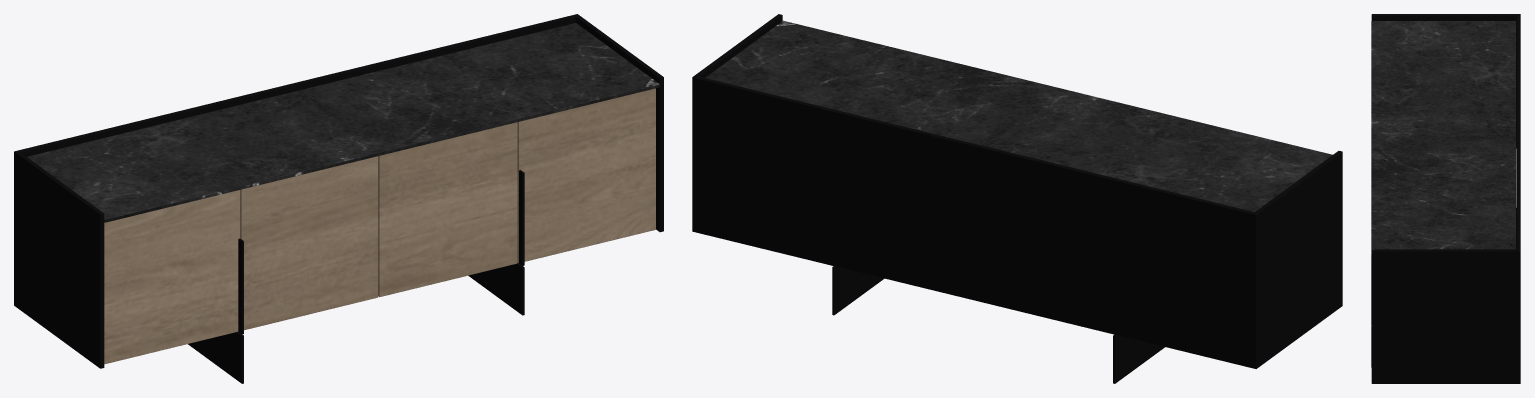
The model's file is black-and-wood-tv-stand-2.obj.
The picture shows the model from 3 angles, left to right: view 1: azimuth 30°, elevation 25°; view 2: azimuth 150°, elevation 25°; view 3: azimuth 270°, elevation 25°; orthographic projection. The views are drawn at different scales.
Parts seen in each view (by area): view 1: TV_Stand_142; view 2: TV_Stand_142; view 3: TV_Stand_142.
Boxes of the visible parts, x1,y1,x2,y2 form: TV_Stand_142: (14, 14, 663, 383); TV_Stand_142: (692, 14, 1342, 383); TV_Stand_142: (1371, 14, 1520, 383).
Size of the model in its own units: 195 by 67.3 by 51.9.
Materials: 3 (2 with a texture image).
